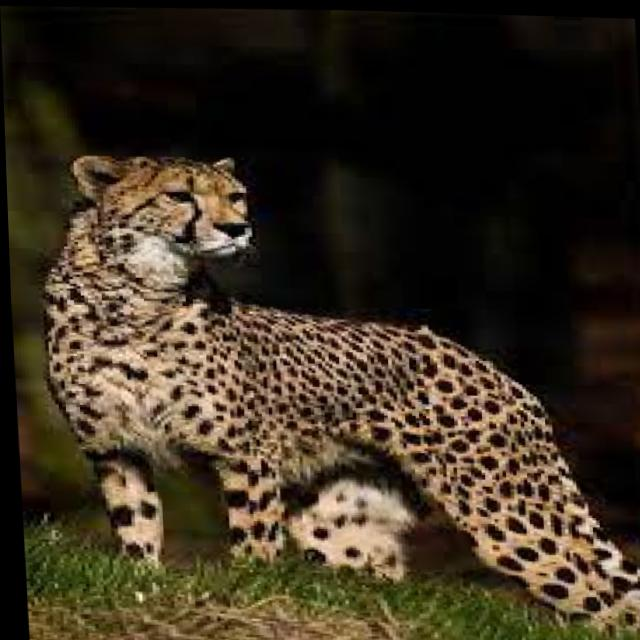dog: (39, 130, 640, 635)
